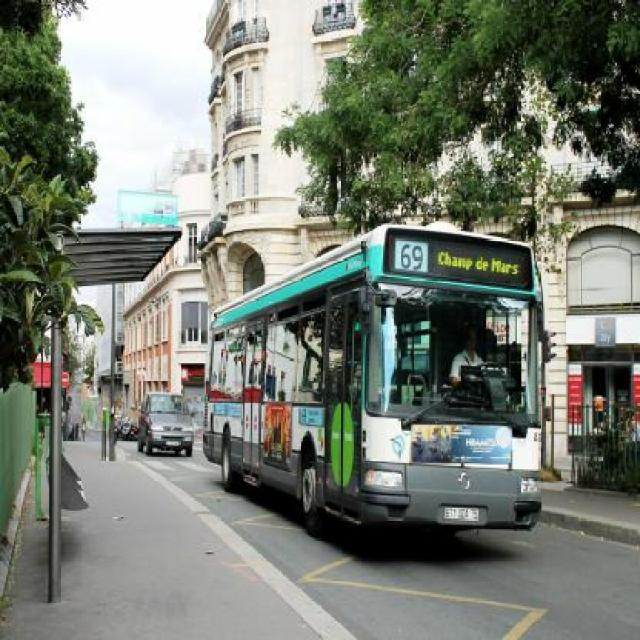bus: (204, 228, 546, 540)
